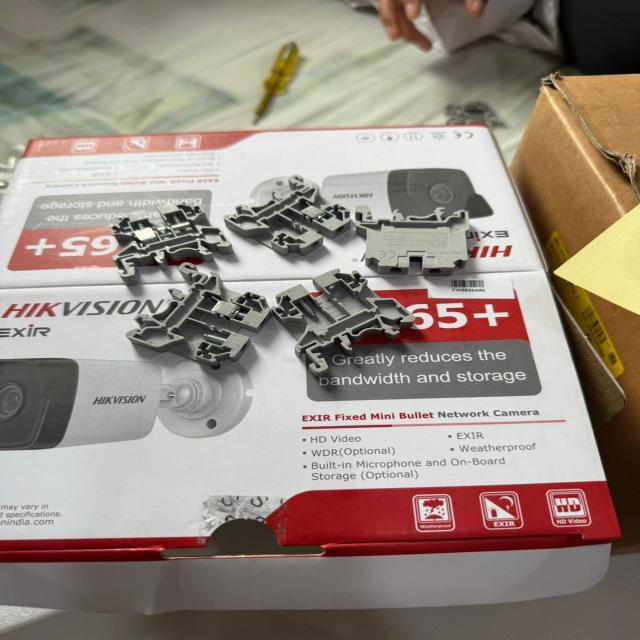Inverted: (348, 204, 482, 275)
Reject: (96, 261, 272, 372), (266, 268, 420, 378), (221, 170, 355, 258), (104, 200, 235, 282)
